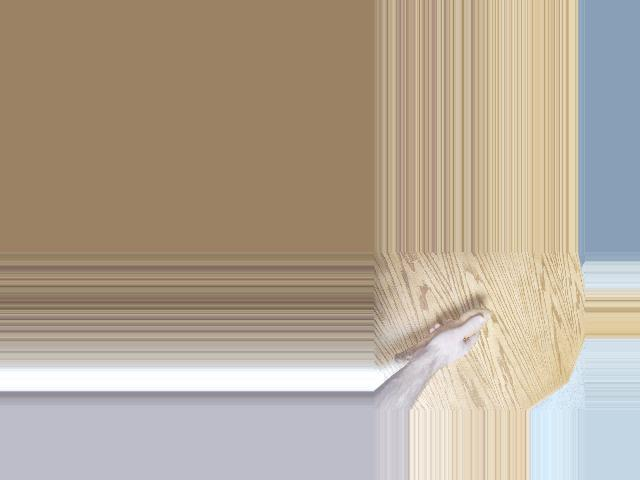sweet_potato: (377, 306, 492, 365)
